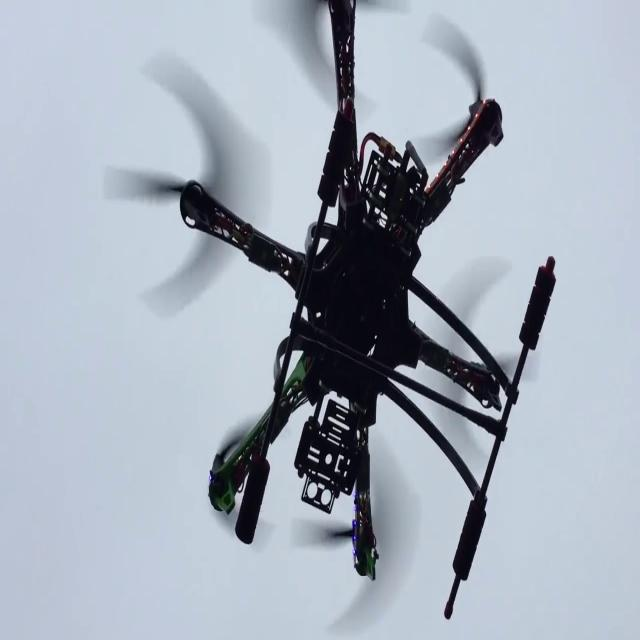drone: (128, 16, 608, 588)
